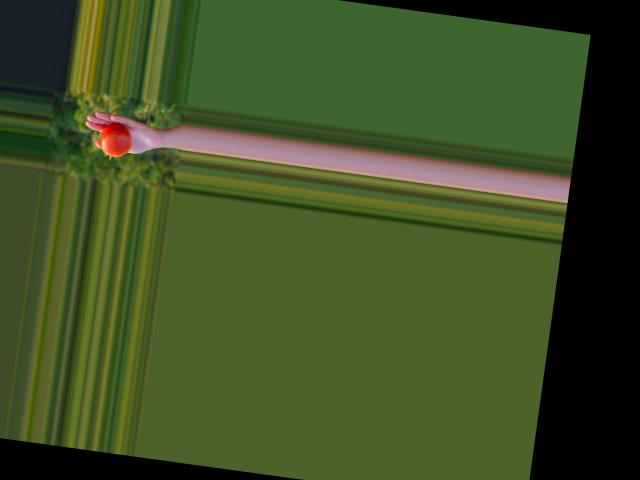tomato: (98, 120, 133, 158)
